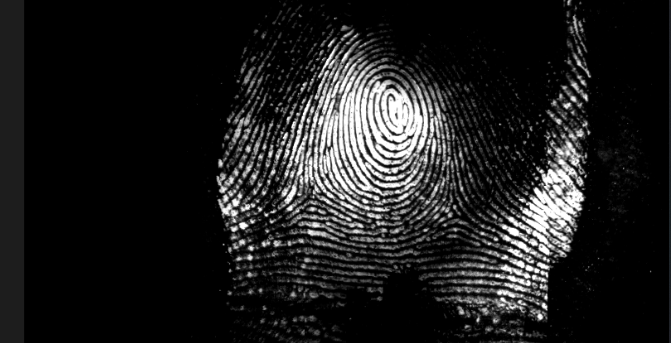deltas: (432, 185, 480, 235), (291, 173, 334, 212)
nucleo: (375, 80, 411, 135)
